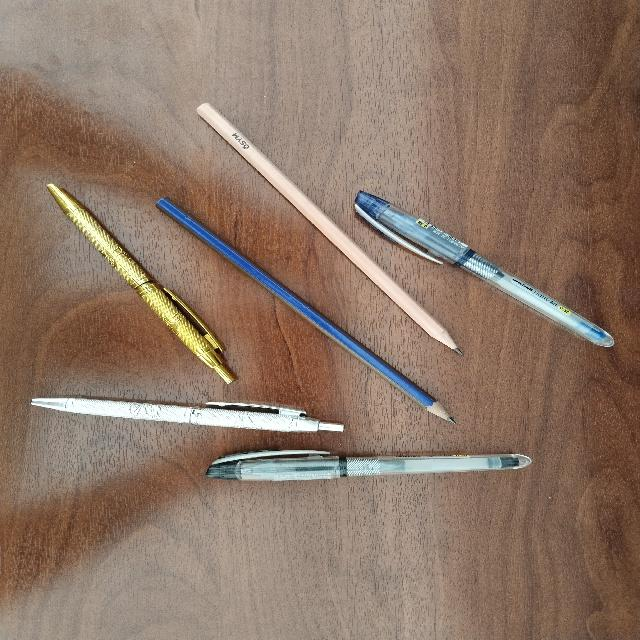pen: (355, 192, 613, 346), (206, 450, 530, 480)
pencil: (156, 198, 454, 422), (197, 103, 460, 352)
signature pen: (47, 184, 234, 382), (31, 398, 343, 431)
